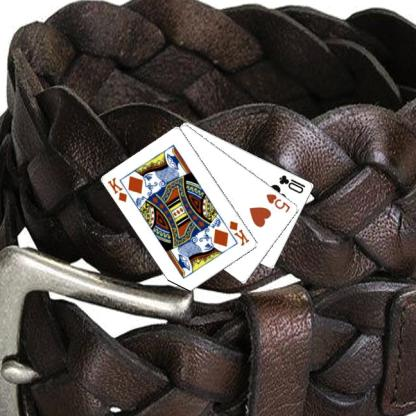10C: (276, 172, 307, 195)
5H: (264, 190, 292, 214)
KD: (104, 174, 128, 204), (227, 218, 251, 247)
